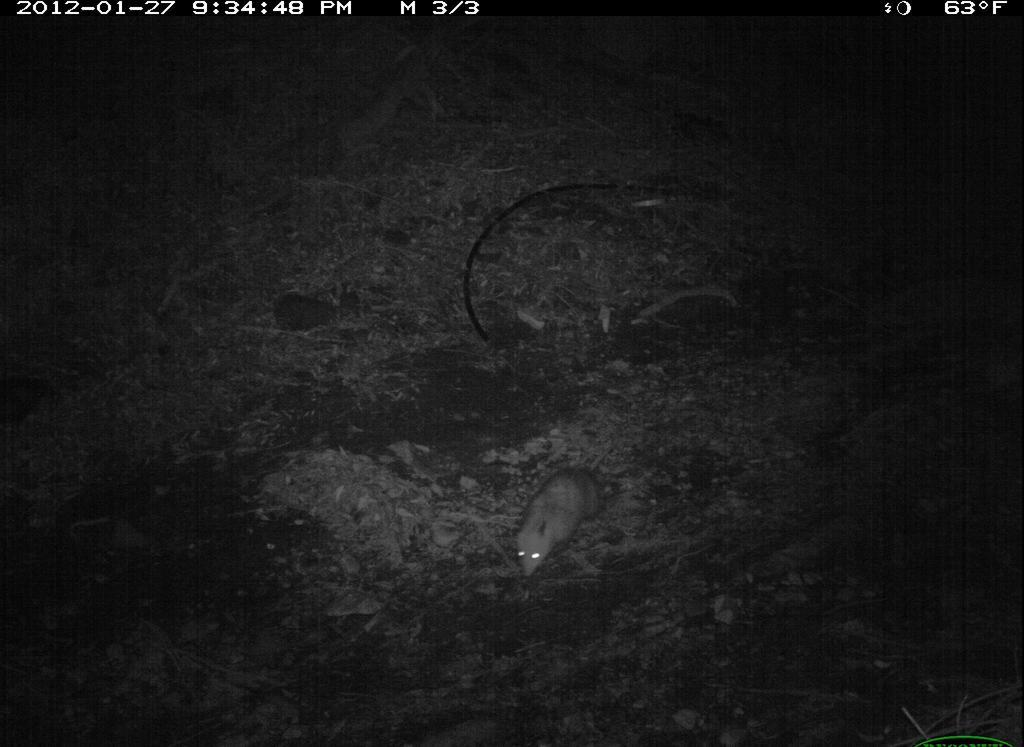opossum: (498, 450, 634, 594)
